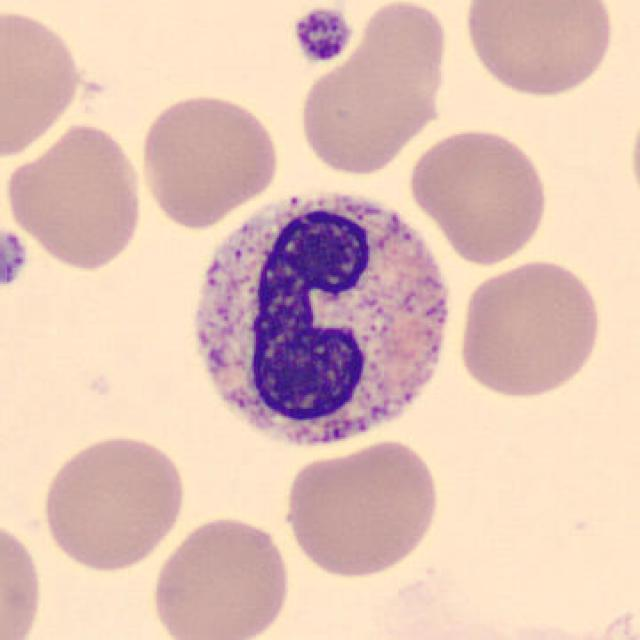Neutrophil: (176, 178, 464, 469)
Platelets: (288, 4, 357, 67), (0, 228, 30, 292)
RBC: (295, 0, 452, 178), (279, 436, 445, 580), (2, 118, 148, 273), (38, 428, 190, 575), (454, 256, 604, 402), (135, 88, 283, 231), (405, 124, 551, 266), (148, 511, 294, 640), (458, 0, 618, 100), (0, 2, 87, 164), (0, 509, 48, 640), (626, 86, 640, 226)
